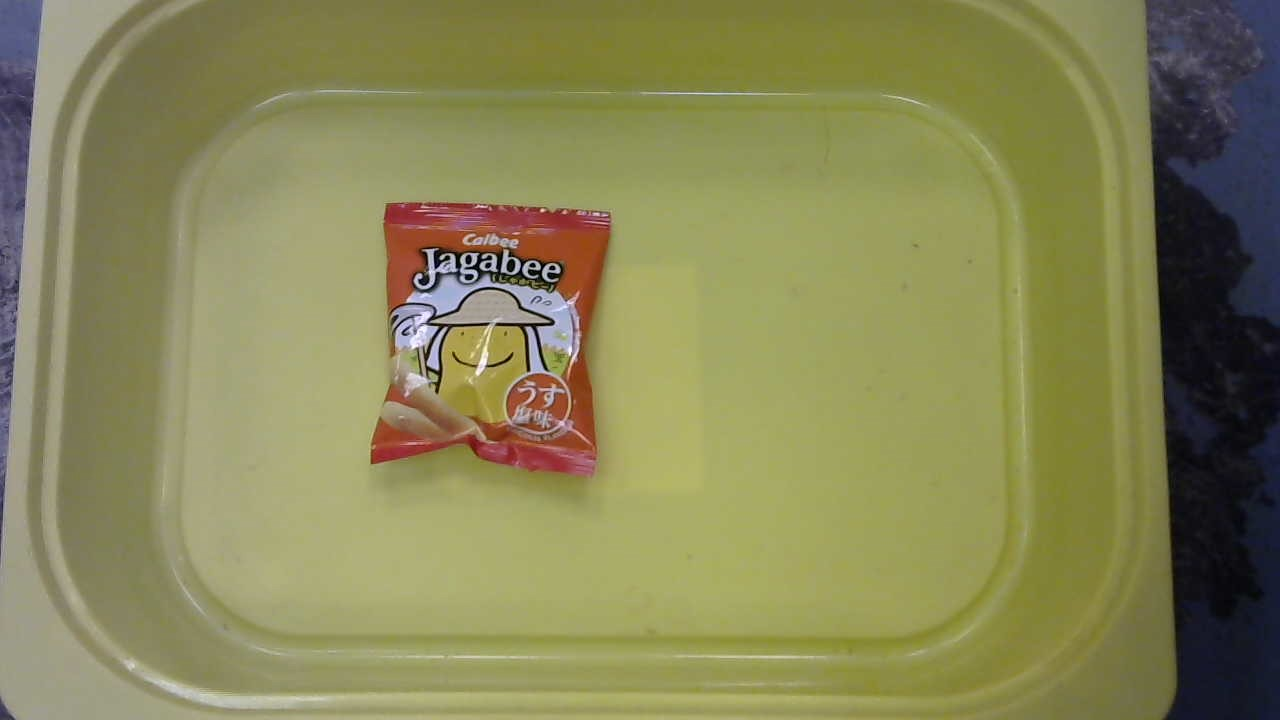JagabeeFarmer: (362, 197, 610, 484)
